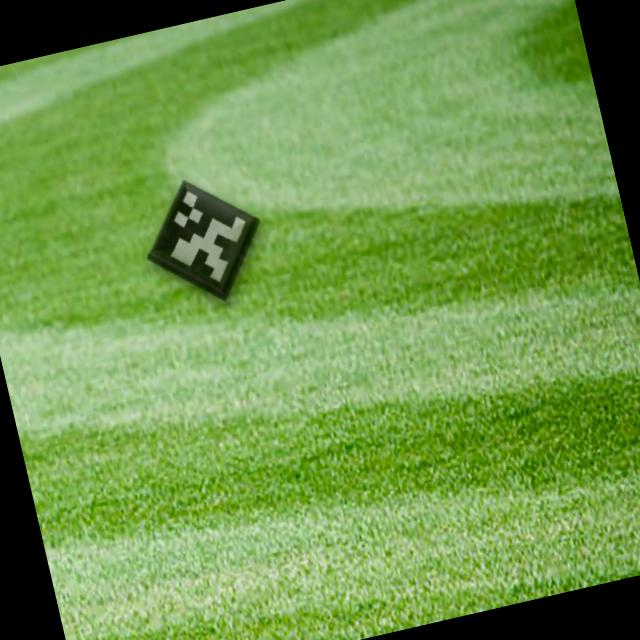marker: (121, 156, 286, 327)
